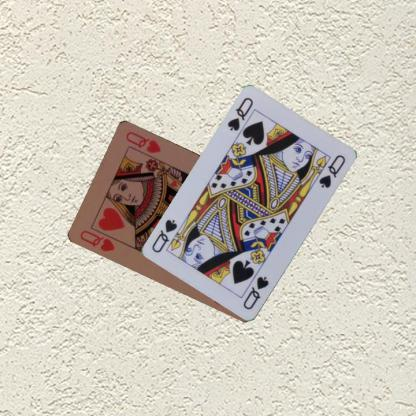Qh: (77, 227, 117, 253)
Qs: (225, 95, 255, 133), (240, 274, 270, 311)
